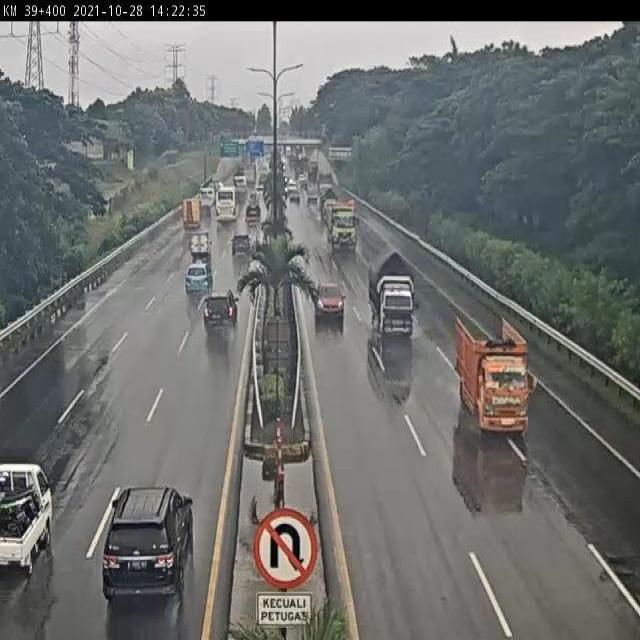bus-l-: (214, 183, 239, 221)
car: (101, 486, 194, 606), (0, 464, 54, 572), (186, 260, 213, 293)
truck-l-: (326, 198, 361, 254)
truck-s-: (454, 313, 531, 439), (368, 248, 415, 341), (182, 203, 202, 232)
